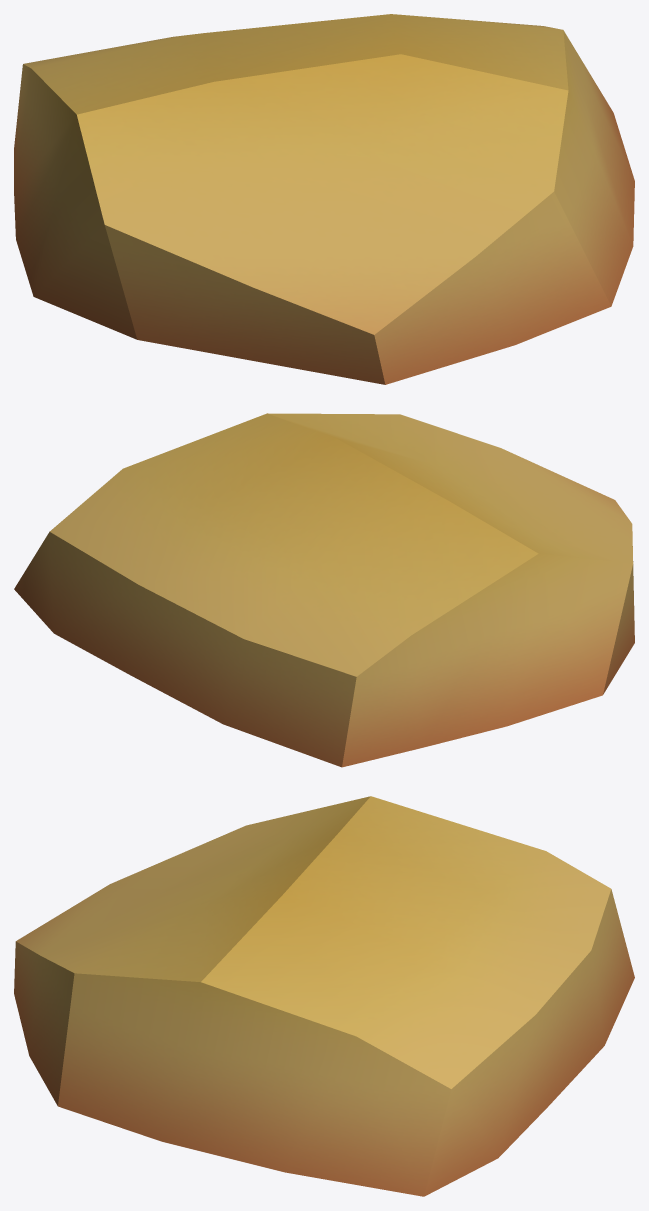
Rendered from Canyon_Stone_005.FBX.
3 views of the same model, one above another, from view 1: azimuth 30°, elevation 25°; view 2: azimuth 150°, elevation 25°; view 3: azimuth 270°, elevation 25° (orthographic). The views are drawn at different scales.
Visible parts, largest first — view 1: Canyon_Stone_005; view 2: Canyon_Stone_005; view 3: Canyon_Stone_005.
Boxes of the visible parts, left/top/right/bottom form: Canyon_Stone_005: left=14, top=14, right=634, bottom=384; Canyon_Stone_005: left=14, top=413, right=634, bottom=767; Canyon_Stone_005: left=14, top=796, right=634, bottom=1196.
Size of the model in its own units: 222 by 63.1 by 207.
Materials: 1 (1 with a texture image).
